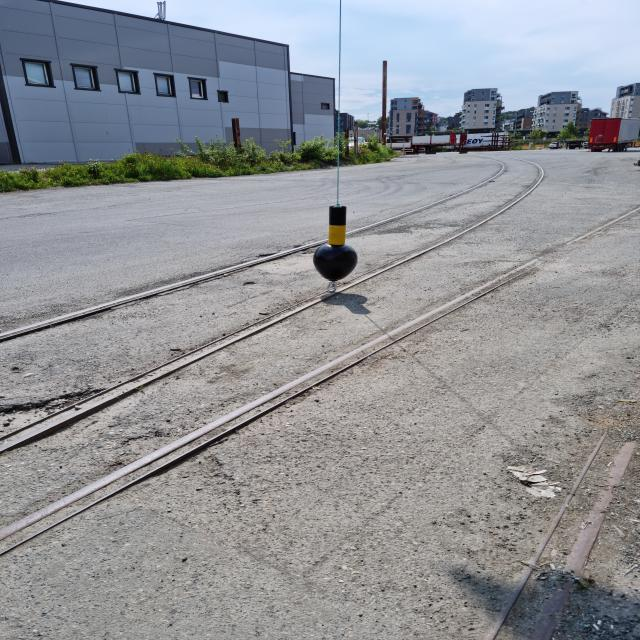east: (313, 207, 357, 281)
